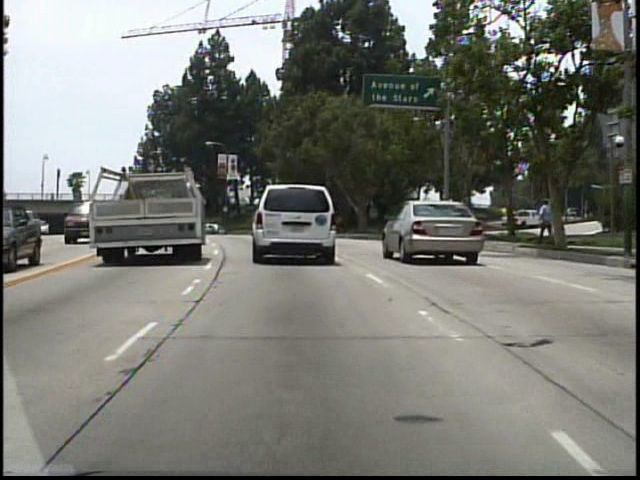person: (531, 191, 559, 252)
